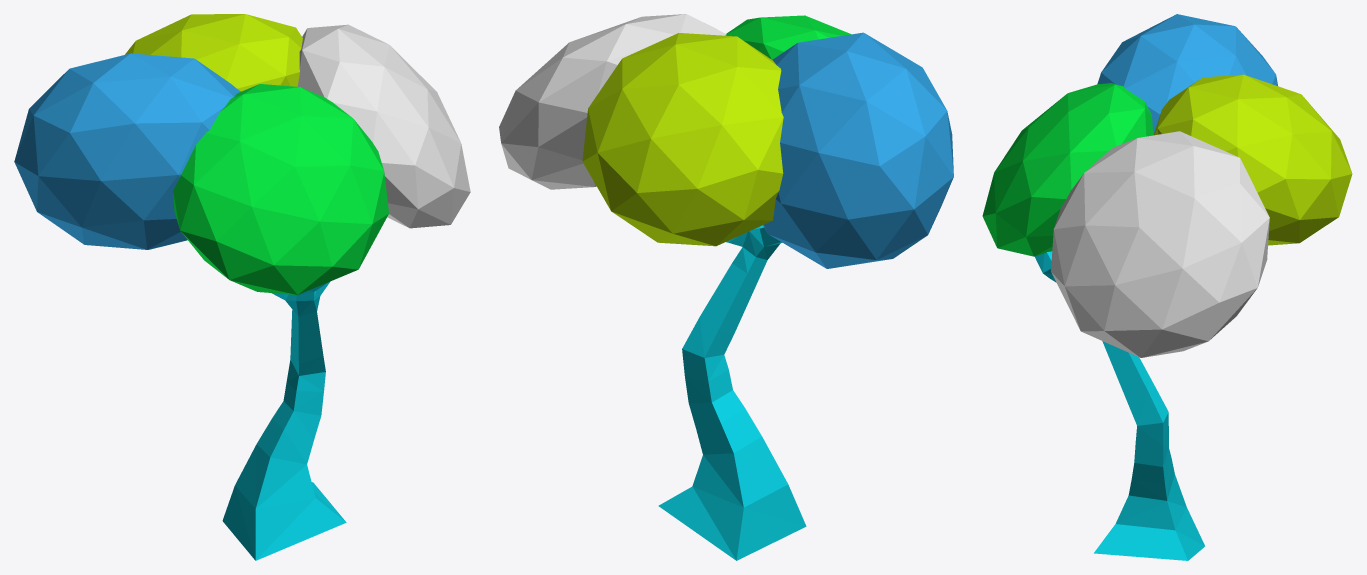
Rendered from tree3.fbx.
3 renders of one model, left to right at view 1: azimuth 30°, elevation 25°; view 2: azimuth 150°, elevation 25°; view 3: azimuth 270°, elevation 25°, orthographic. The views are drawn at different scales.
Visible parts, largest first — view 1: tree3; view 2: tree3; view 3: tree3.
Boxes of the visible parts, <box> form: tree3: <box>14,14,470,560</box>; tree3: <box>499,14,953,560</box>; tree3: <box>982,14,1352,560</box>.
Size of the model in its own units: 663 by 763 by 538.
